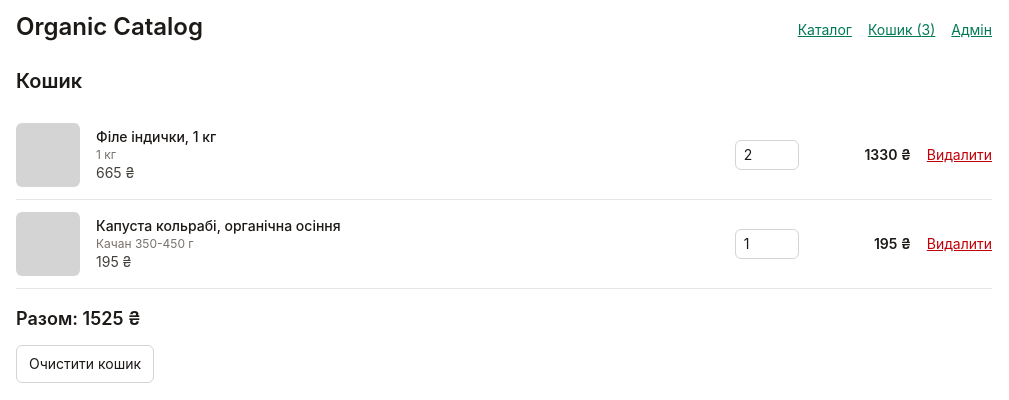
Test case: BasketPage › Removing a line
Click the button "Видалити" next to "1330 ₴". click: (959, 155)
box: 927,145 -> 992,165
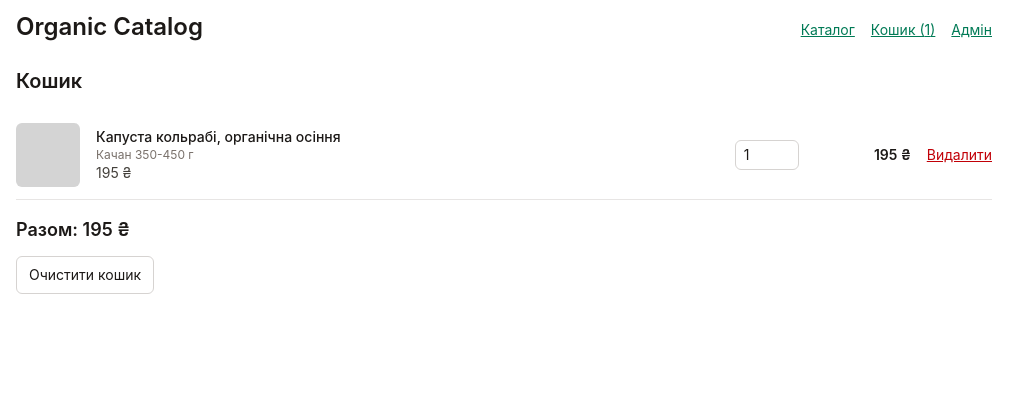
Expected: the text "Разом: 195 ₴" is shown, 16,219 -> 130,240
Expected: the number of list items is 1, 16,111 -> 992,200
Expected: the text "195 ₴" is shown 2 times, 96,164 -> 132,181; 874,146 -> 911,163
